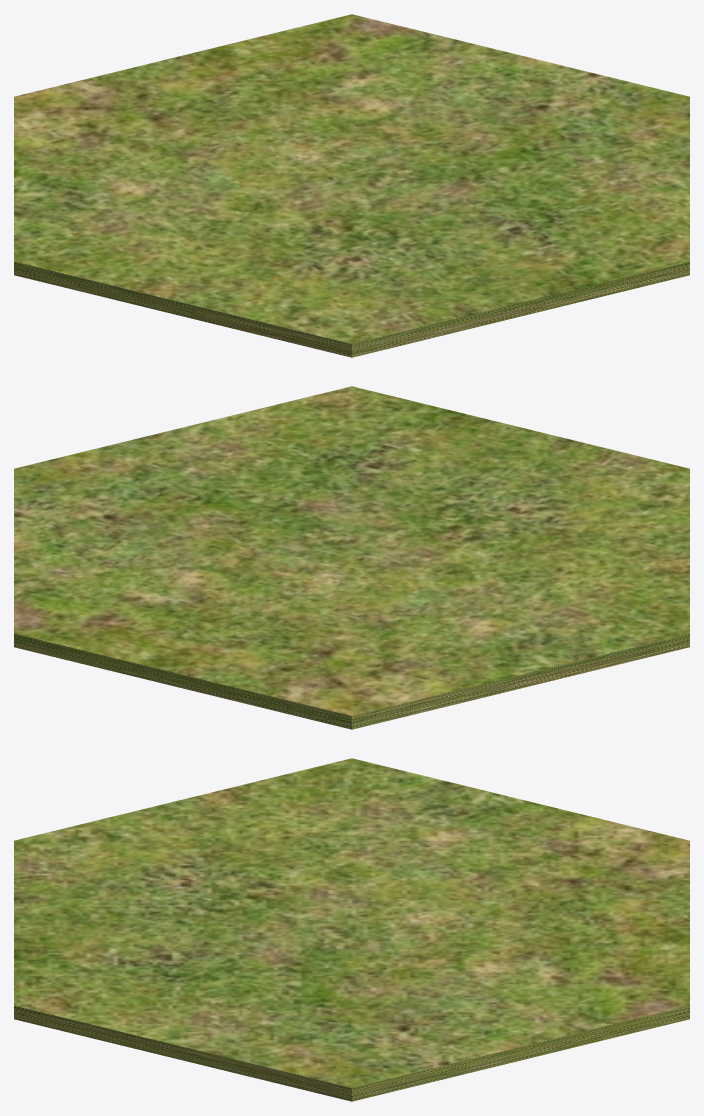
File: grass.fbx
3 renders of one model, top to bottom at view 1: azimuth 30°, elevation 25°; view 2: azimuth 150°, elevation 25°; view 3: azimuth 270°, elevation 25°, orthographic.
Visible parts, largest first — view 1: pPrism1; view 2: pPrism1; view 3: pPrism1.
Part boxes in pixels (box(x1,y1,x2,y2)): pPrism1: box(14, 14, 689, 357); pPrism1: box(14, 386, 689, 729); pPrism1: box(14, 758, 689, 1101).
Bounding box in the file's own units: 18.02 × 0.347 × 15.61.
